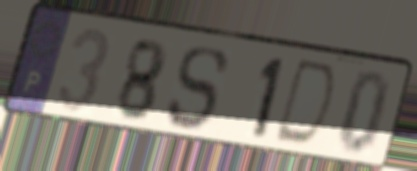0: (337, 69, 394, 158)
1: (249, 54, 288, 142)
3: (54, 26, 115, 118)
8: (114, 36, 172, 124)
D: (269, 56, 341, 152)
S: (164, 45, 231, 133)
